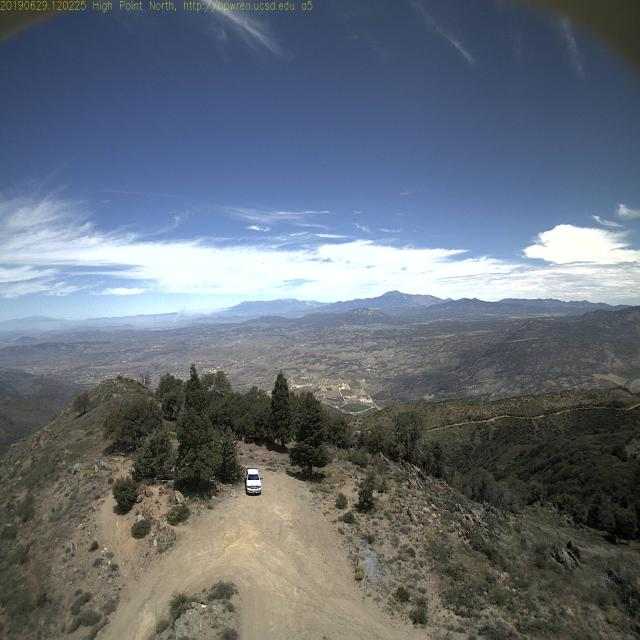smoke: (168, 300, 232, 338)
